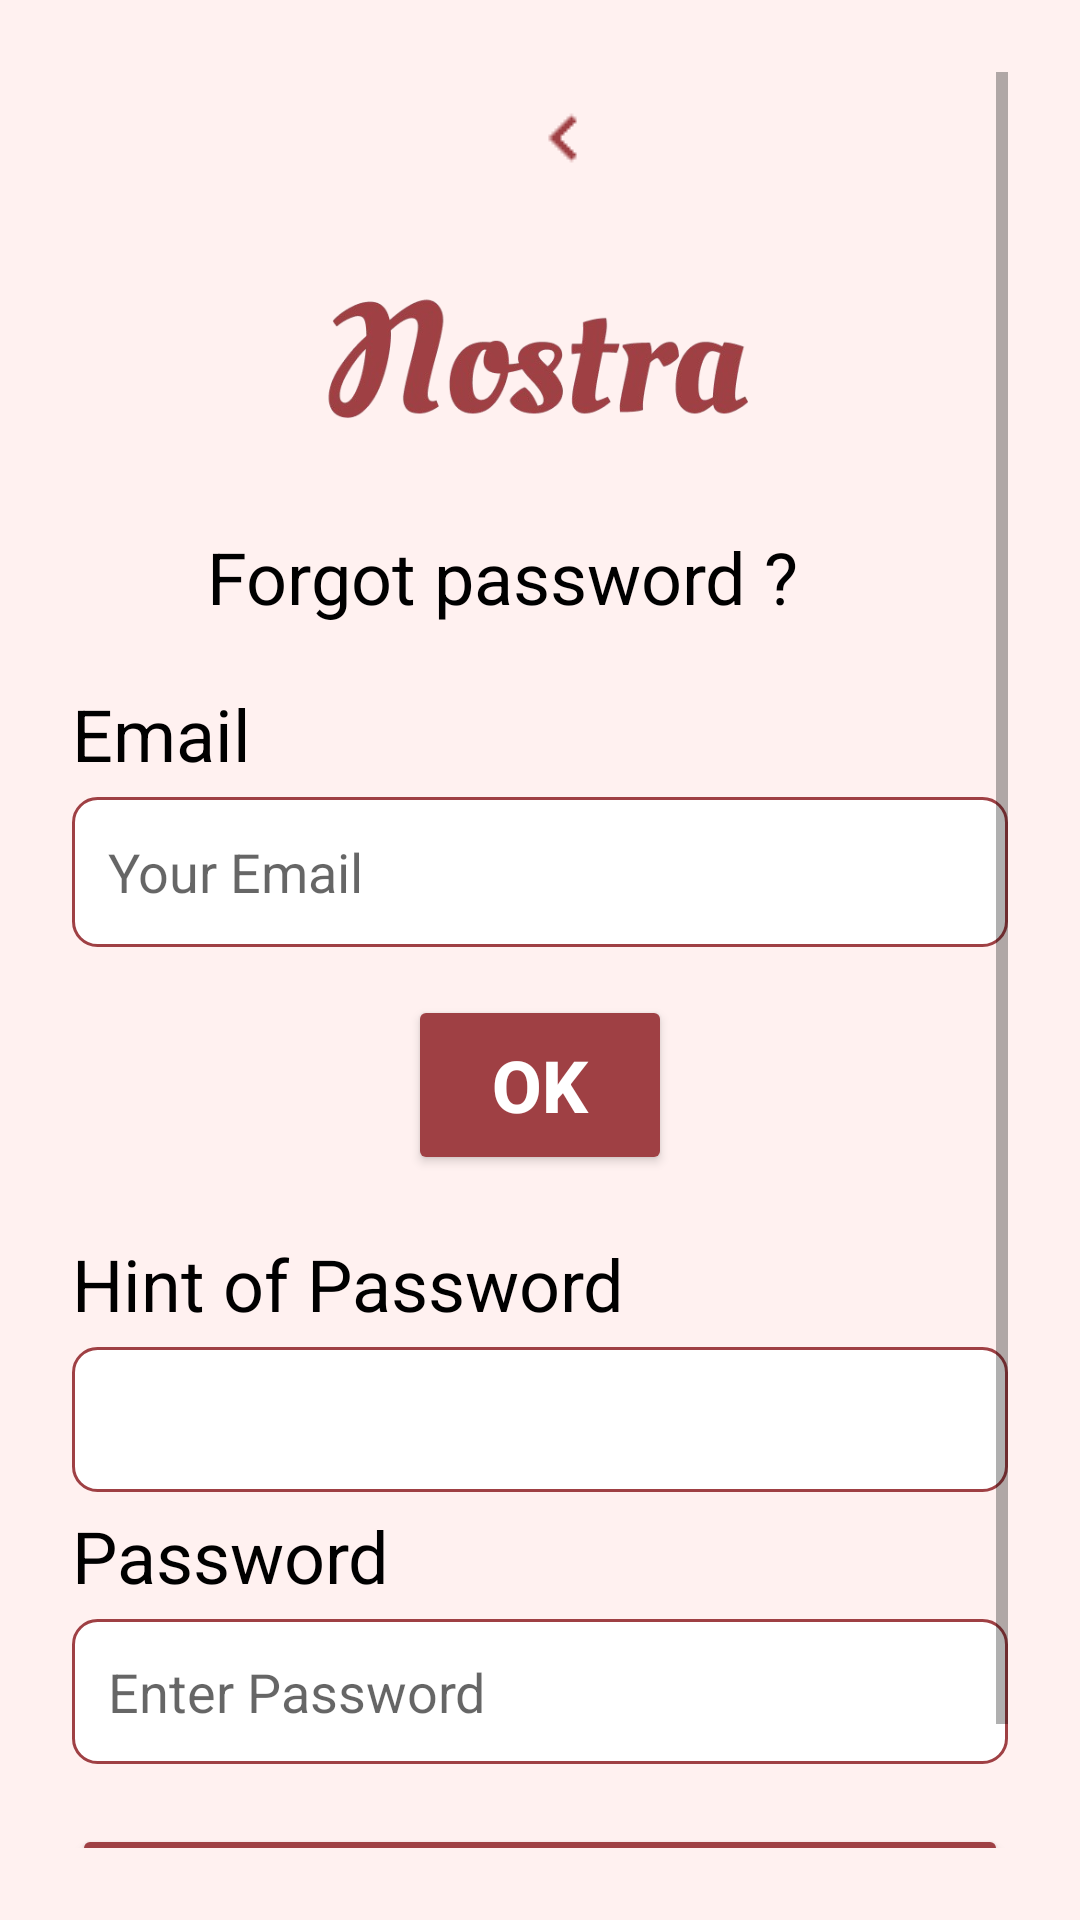

Icon bounding boxes for this 1080*1920 phone screenshot, format (x1, y1, x2, y2):
back: (548, 114, 577, 162)
